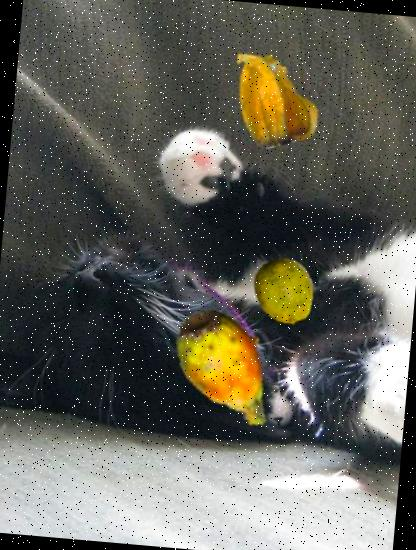Cactus: (158, 297, 302, 442)
Guava: (249, 256, 322, 329)
Physalis: (220, 40, 332, 150)
